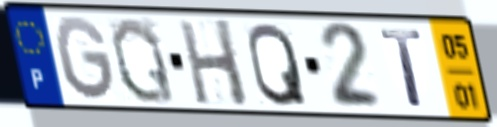2: (316, 19, 385, 113)
G: (52, 13, 120, 104)
H: (175, 17, 253, 110)
Q: (107, 14, 179, 106), (245, 20, 310, 110)
T: (377, 28, 427, 110)
